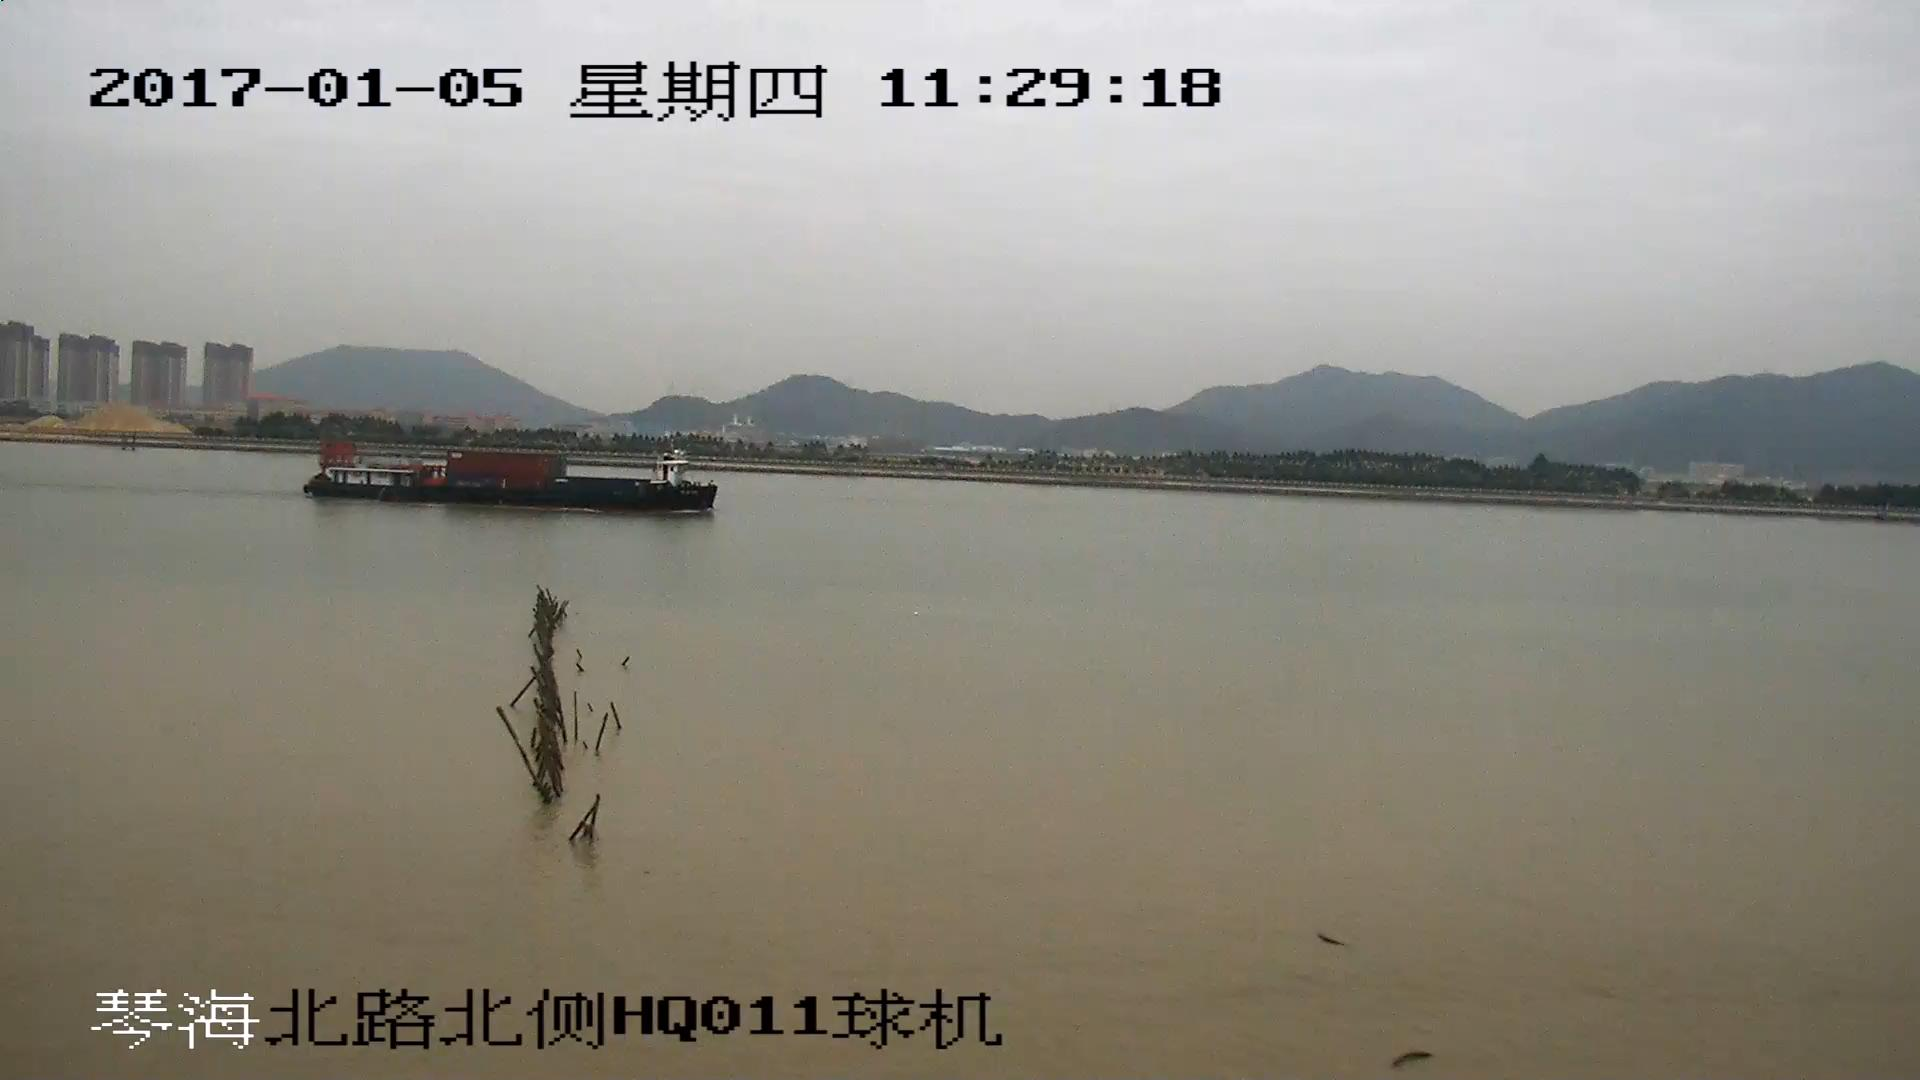container ship: (303, 440, 716, 516)
